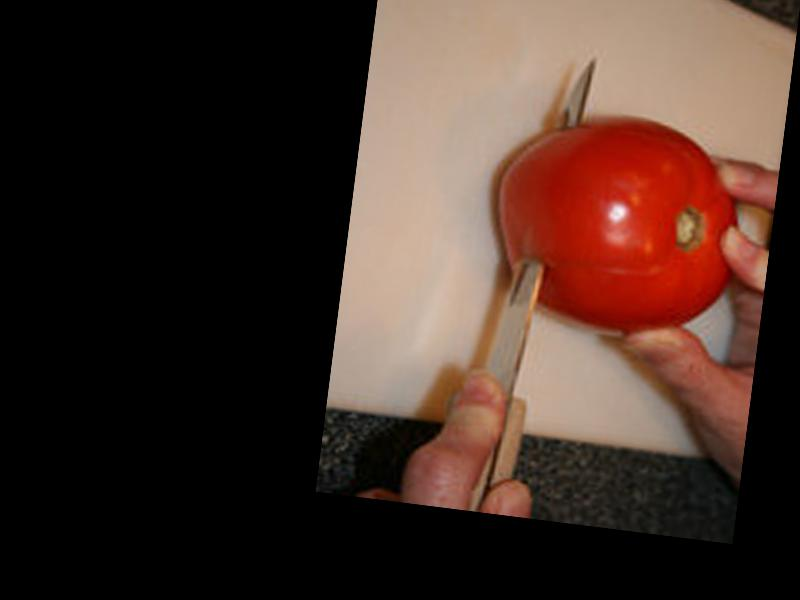Tomato: (484, 100, 751, 344)
